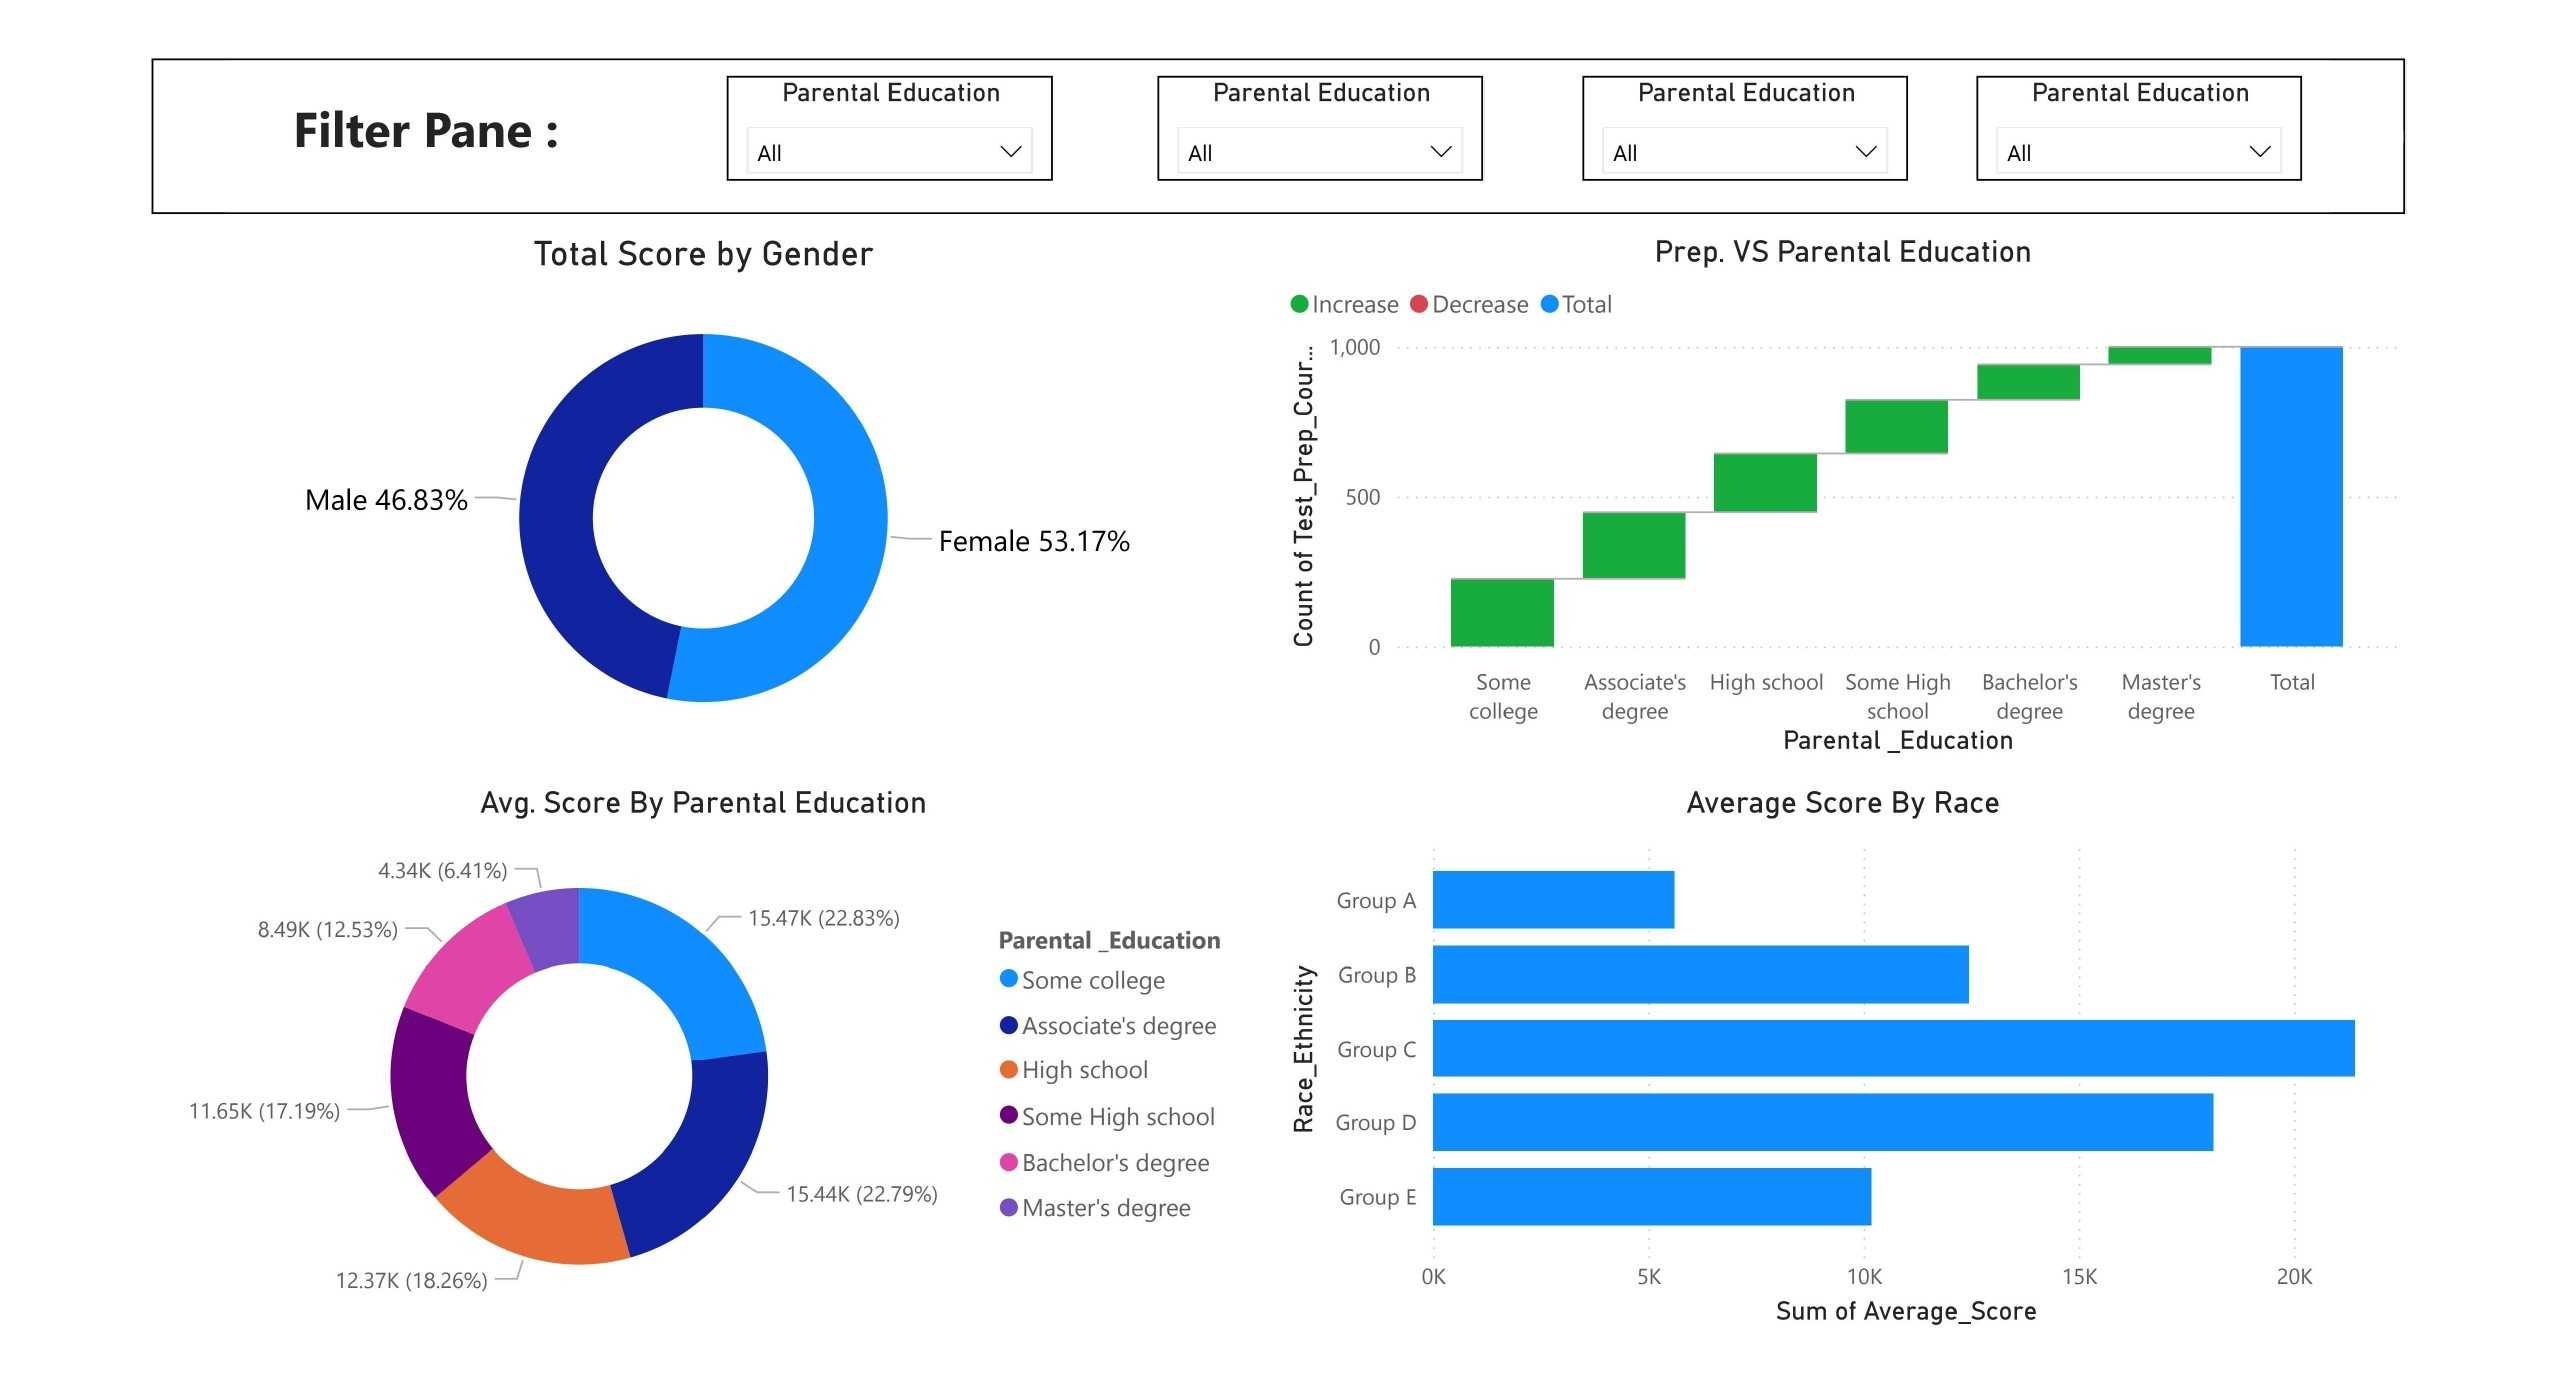

This screenshot's page, from the dashboard's own definition file:
{"tool":"powerbi","page":{"name":"Page 2","canvas":[1280,720],"ordinal":1},"visuals":[{"type":"shape","box":[18.6,5.8,1244.2,86],"z":0},{"type":"donutChart","title":"Total Score by Gender","fields":{"Category":["StudentsPerformance.Gender"],"Y":["Sum(StudentsPerformance.Total_score)"]},"box":[18.6,101.2,609.3,293],"z":1000},{"type":"donutChart","title":"Avg. Score By Parental Education","fields":{"Category":["StudentsPerformance.Parental _Education"],"Y":["Sum(StudentsPerformance.Average_Score)"]},"box":[18.6,405.8,609.3,304.7],"z":2000},{"type":"waterfallChart","title":"Prep. VS  Parental Education","fields":{"Category":["StudentsPerformance.Parental _Education"],"Y":["CountNonNull(StudentsPerformance.Test_Prep_Course)"]},"box":[640.7,101.2,622.1,293],"z":3000},{"type":"barChart","title":"Average Score By Race","fields":{"Category":["StudentsPerformance.Race_Ethnicity"],"Y":["Sum(StudentsPerformance.Average_Score)"]},"box":[640.7,405.8,622.1,304.7],"z":4000},{"type":"slicer","title":"Parental  Education","fields":{"Values":["StudentsPerformance.Parental _Education"]},"box":[335,15,180,57.5],"z":5000},{"type":"slicer","title":"Parental  Education","fields":{"Values":["StudentsPerformance.Parental _Education"]},"box":[573.8,15,180,57.5],"z":6000},{"type":"slicer","title":"Parental  Education","fields":{"Values":["StudentsPerformance.Parental _Education"]},"box":[807.5,15,180,57.5],"z":7000},{"type":"slicer","title":"Parental  Education","fields":{"Values":["StudentsPerformance.Parental _Education"]},"box":[1025.3,15,180,57.5],"z":8000},{"type":"textbox","box":[91.2,20,172.5,52.5],"z":9000}]}

Visuals, with their boxes in screenshot pixels (x1, y1, x2, y2), scaled from the page's 1280x720 canvas onto the 2550x1398 screenshot:
shape: 37, 11, 2516, 178
"Total Score by Gender" donutChart: 37, 196, 1251, 765
"Avg. Score By Parental Education" donutChart: 37, 788, 1251, 1380
"Prep. VS  Parental Education" waterfallChart: 1276, 196, 2516, 765
"Average Score By Race" barChart: 1276, 788, 2516, 1380
"Parental  Education" slicer: 667, 29, 1026, 141
"Parental  Education" slicer: 1143, 29, 1502, 141
"Parental  Education" slicer: 1609, 29, 1967, 141
"Parental  Education" slicer: 2043, 29, 2401, 141
textbox: 182, 39, 525, 141
